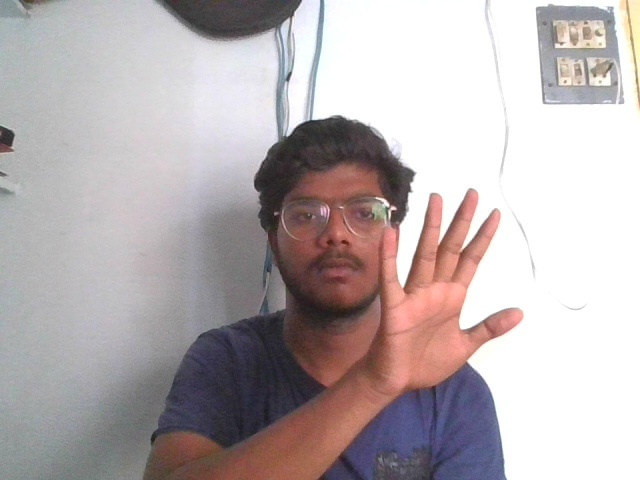Hello: (371, 183, 529, 392)
